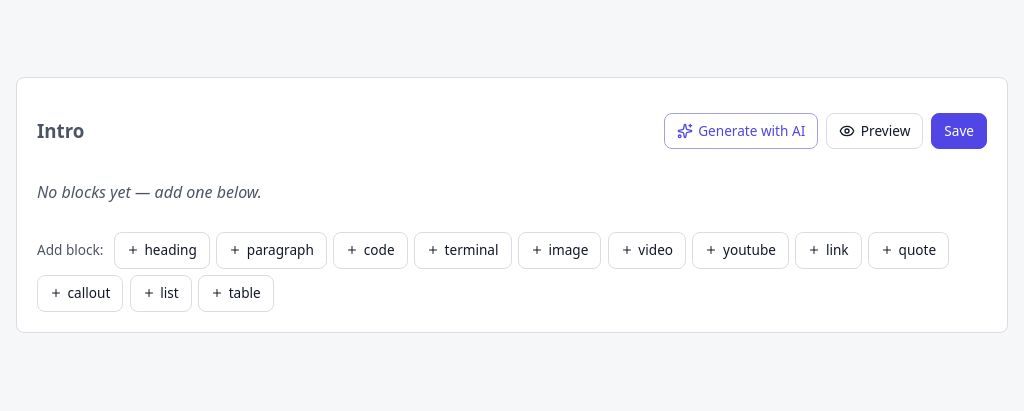
Test: ContentTab block editor forms › lets a keyboard user add a block, tab to its fields, and type into them
Click the button "paragraph".
click(272, 250)  # box [216, 232, 327, 269]
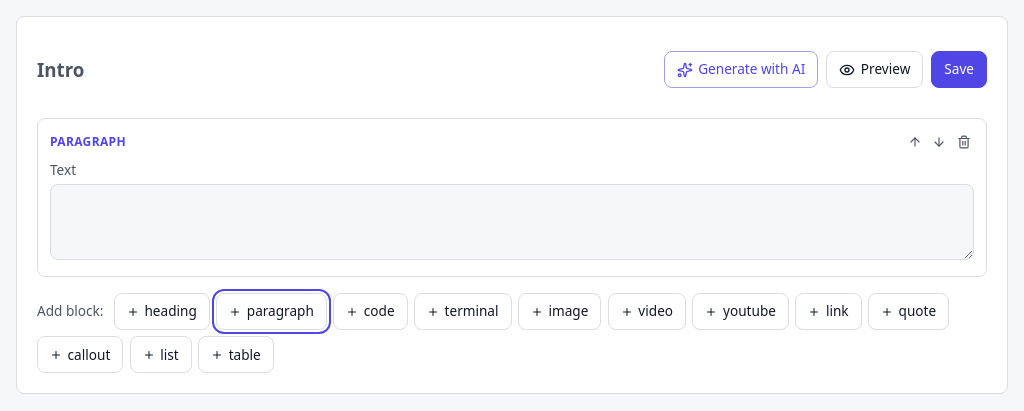
Click the text box labelled "Text".
click(512, 222)  # box [50, 184, 974, 260]
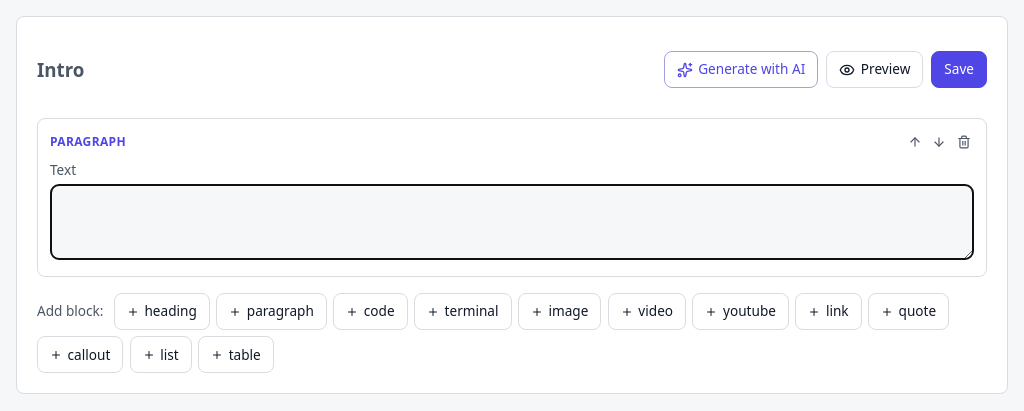
Type keys "Some paragraph text"
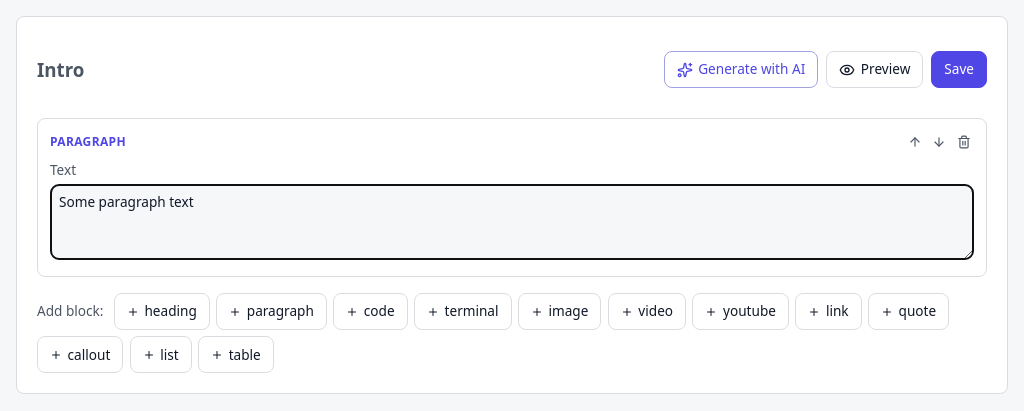
Result: the text box labelled "Text" holds "Some paragraph text" at [50, 184, 974, 260]
